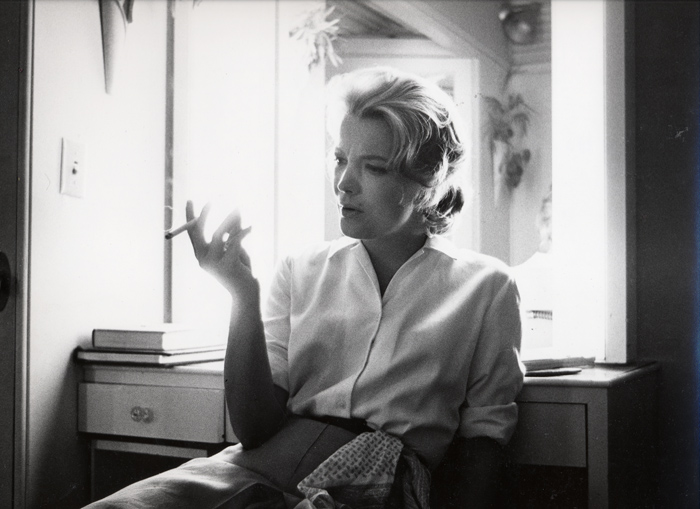cigarette: (164, 214, 206, 238)
